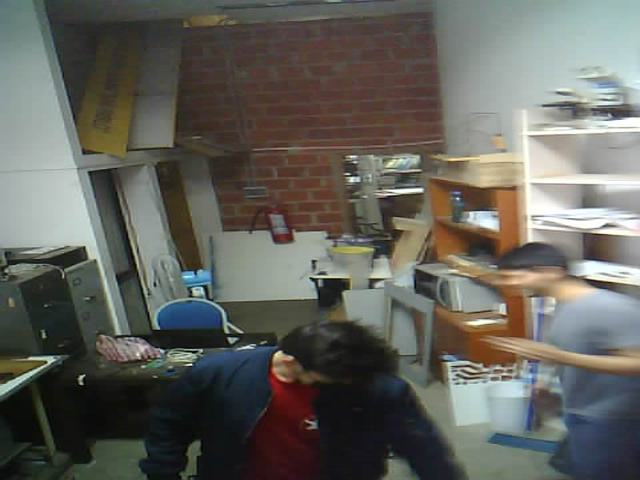person: (112, 298, 482, 480), (456, 208, 640, 480)
